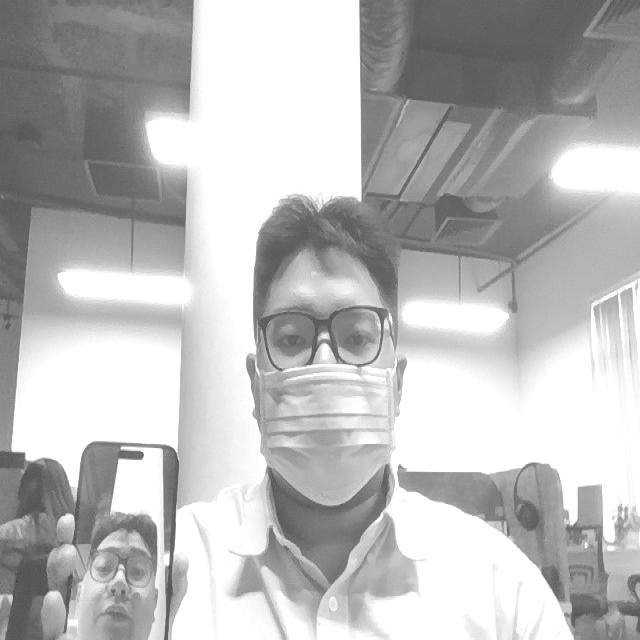fake: (69, 428, 185, 640), (253, 365, 399, 509), (75, 503, 161, 640)
real: (246, 191, 407, 513), (257, 295, 395, 371)
